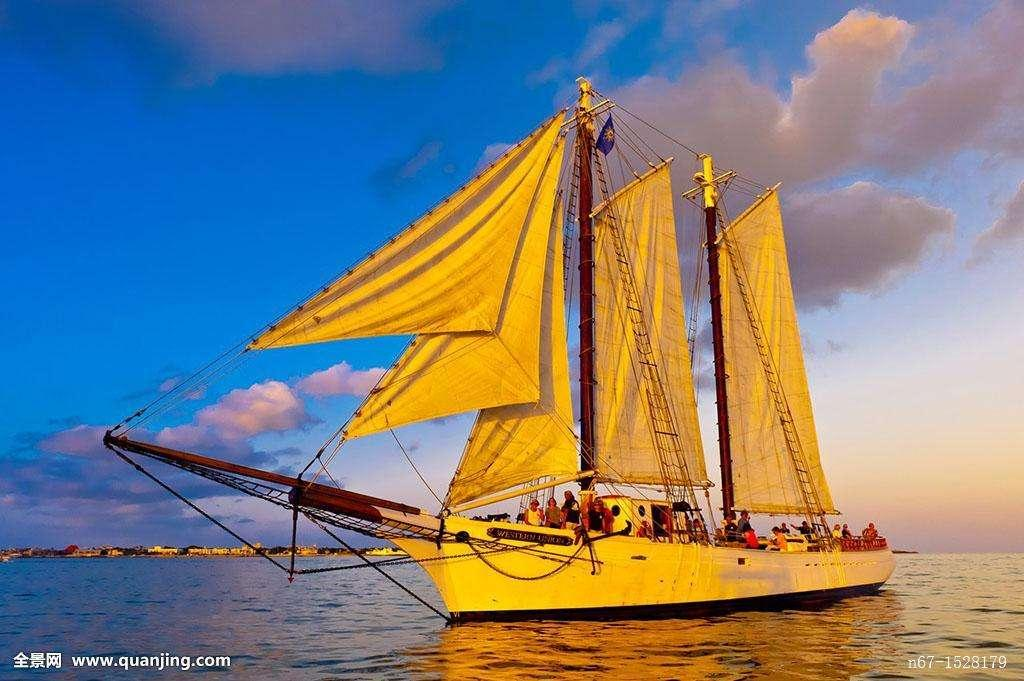fanchuan: (92, 76, 903, 624)
